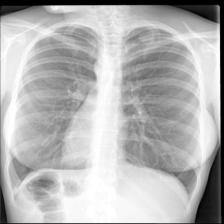tuberculosis: (0, 14, 205, 224)
